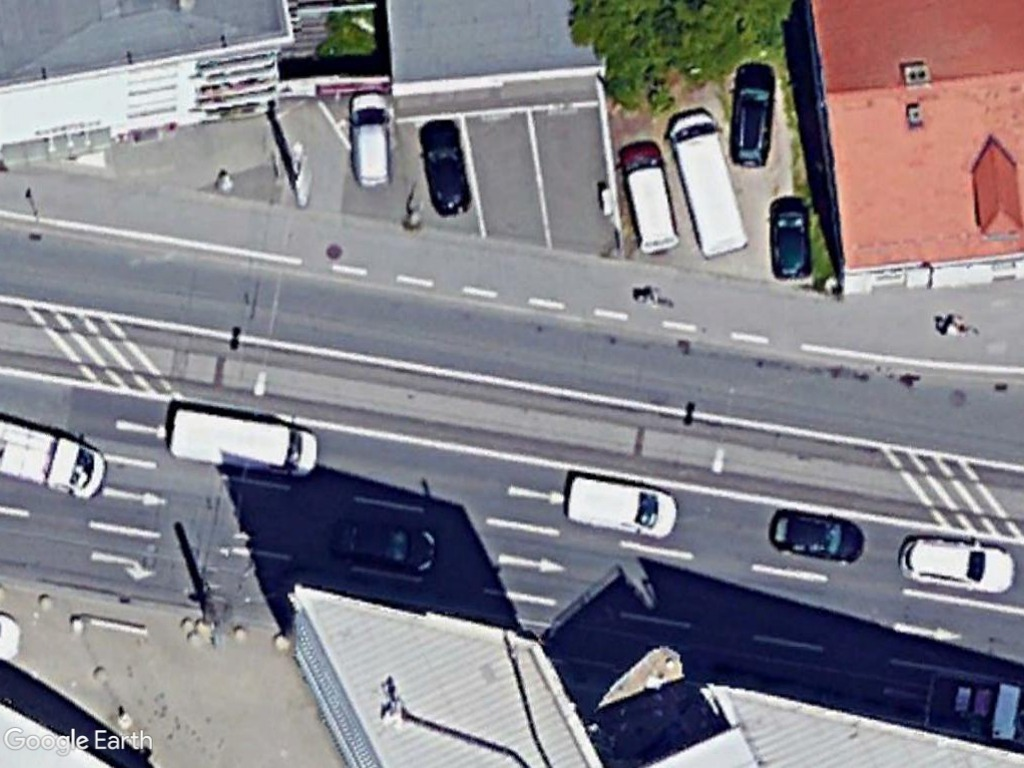car: (895, 530, 1022, 598), (328, 512, 444, 579), (411, 118, 477, 226), (762, 503, 869, 566), (727, 56, 781, 172), (344, 89, 400, 194), (766, 189, 817, 289)
van: (163, 397, 327, 486), (663, 105, 753, 261), (556, 470, 686, 544), (614, 135, 682, 258)
